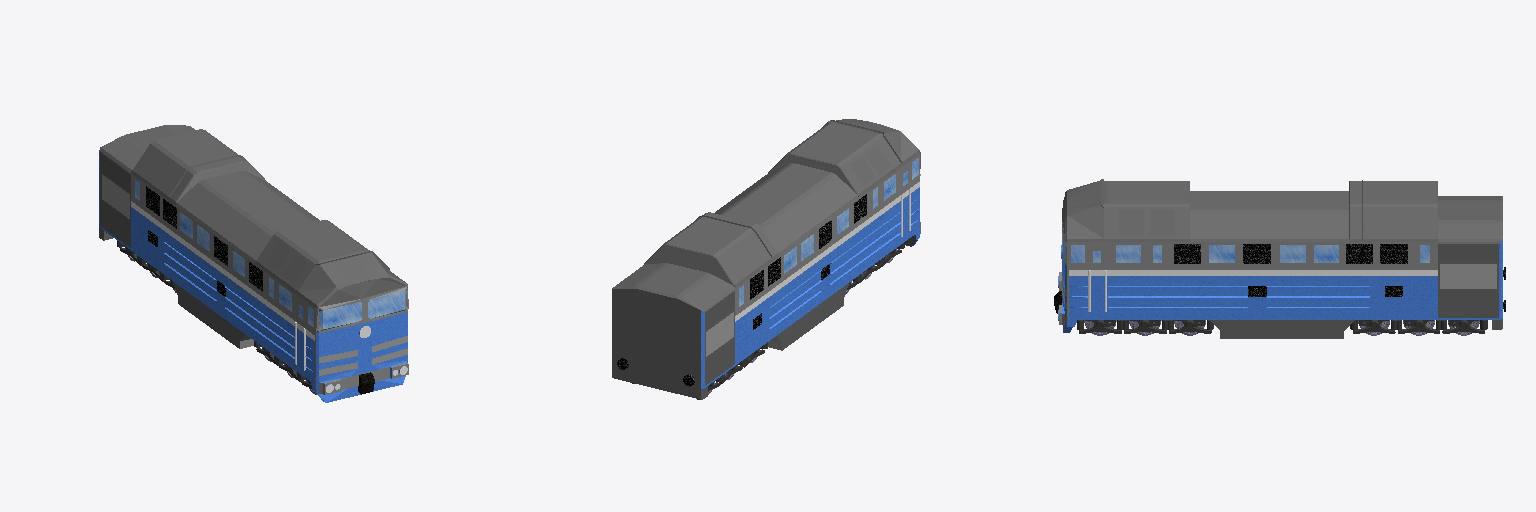
The picture shows the model from 3 angles: view 1: azimuth 30°, elevation 25°; view 2: azimuth 150°, elevation 25°; view 3: azimuth 270°, elevation 25°; orthographic projection.
Visible parts, largest first — view 1: engine; view 2: engine; view 3: engine.
Boxes of the visible parts, x1,y1,x2,y2 form: engine: [99, 125, 408, 402]; engine: [612, 119, 920, 399]; engine: [1054, 179, 1505, 338].
Size of the model in its own units: 66.82 by 87.55 by 275.
Materials: 14 (5 with a texture image).